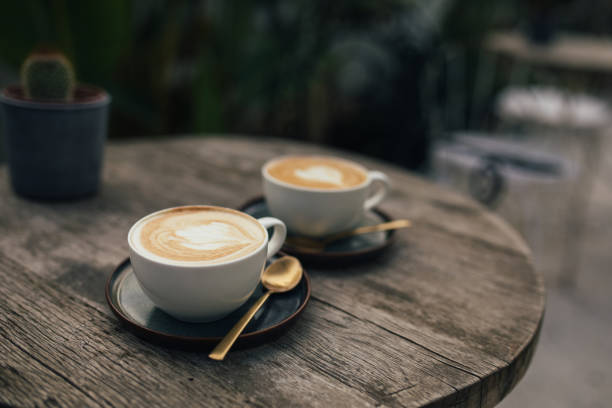Cup: (92, 193, 329, 357), (244, 143, 473, 279)
